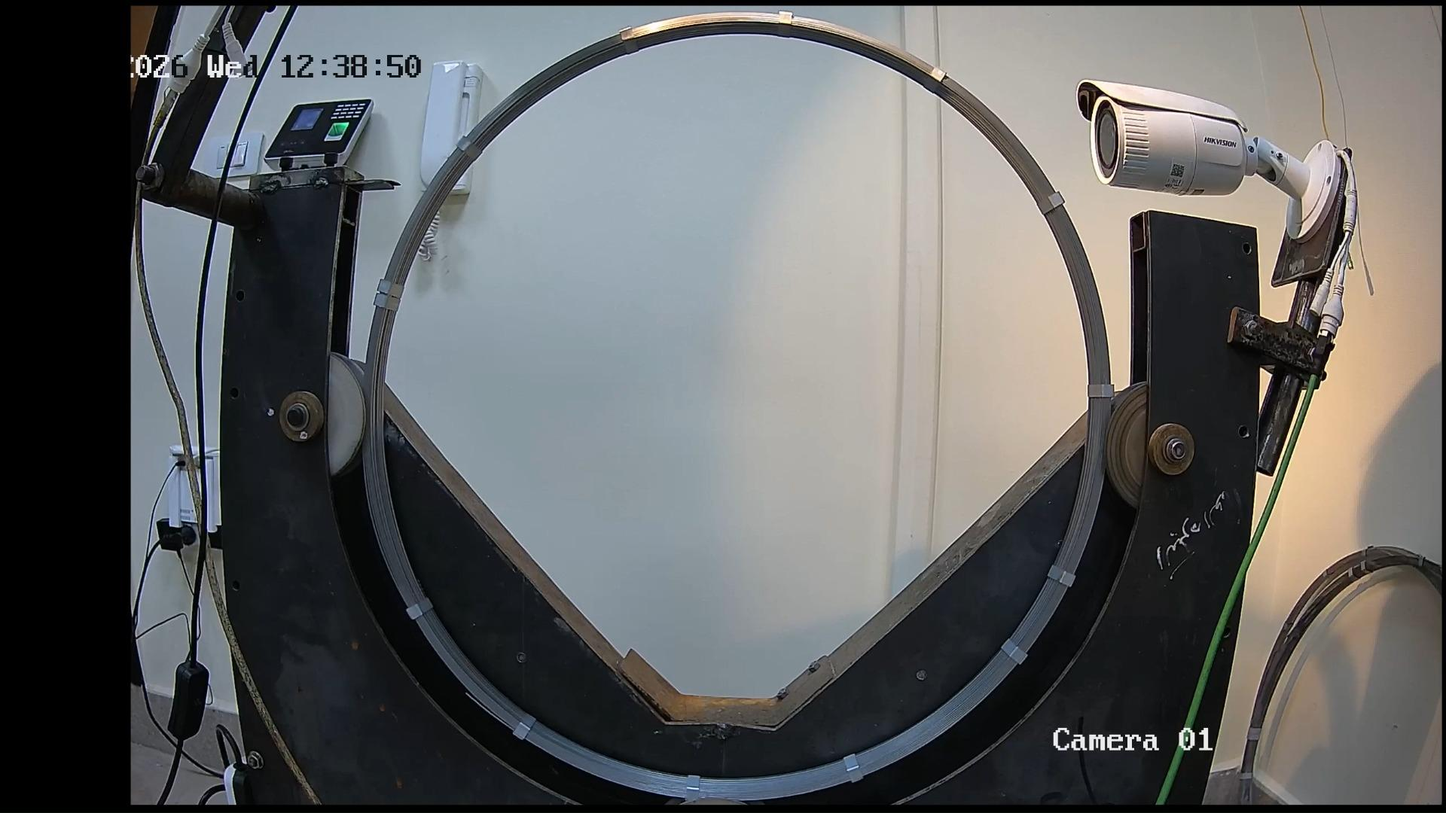Clamp: (917, 68, 947, 95), (457, 135, 482, 159), (406, 598, 432, 620), (1048, 566, 1074, 586), (844, 754, 863, 781), (1002, 641, 1026, 662), (377, 280, 405, 298), (1041, 192, 1063, 214), (514, 716, 534, 739), (775, 11, 793, 36), (620, 29, 637, 53), (1087, 383, 1114, 398), (375, 295, 400, 311), (685, 776, 700, 799)
